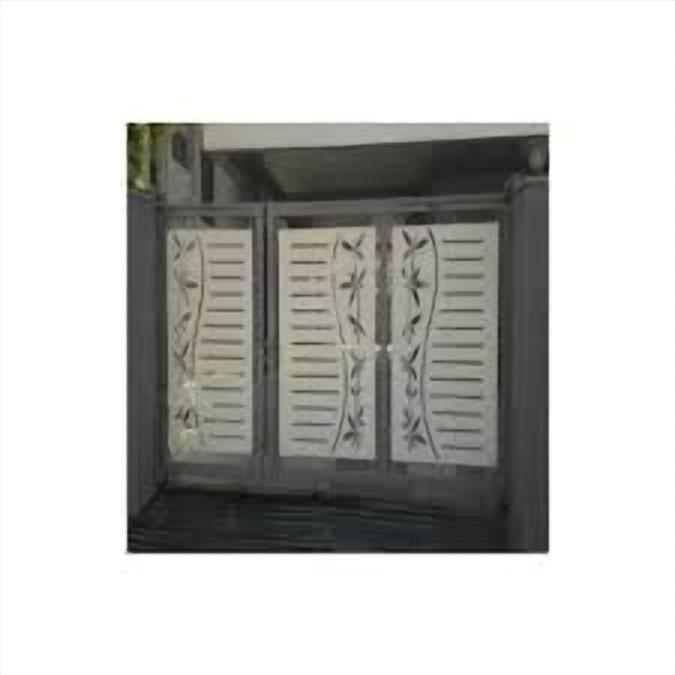Gate: (122, 183, 552, 515)
